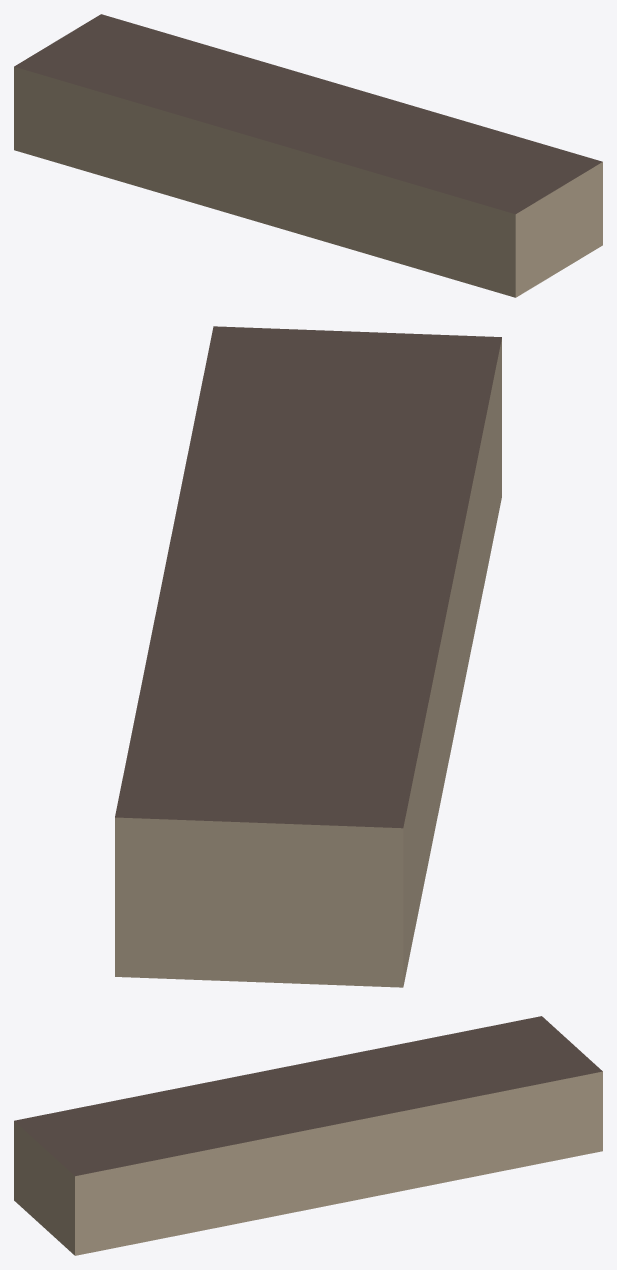
3 views of the same model, one above another, from view 1: azimuth 30°, elevation 25°; view 2: azimuth 150°, elevation 25°; view 3: azimuth 270°, elevation 25° (orthographic). The views are drawn at different scales.
Visible parts, largest first — view 1: HP-w1287259389; view 2: HP-w1287259389; view 3: HP-w1287259389.
Part boxes in pixels (x1,y1,x2,y2): HP-w1287259389: (14,14,602,297); HP-w1287259389: (115,326,501,987); HP-w1287259389: (14,1016,602,1255).
Bounding box in the file's own units: 38.8 × 9 × 60.28.
